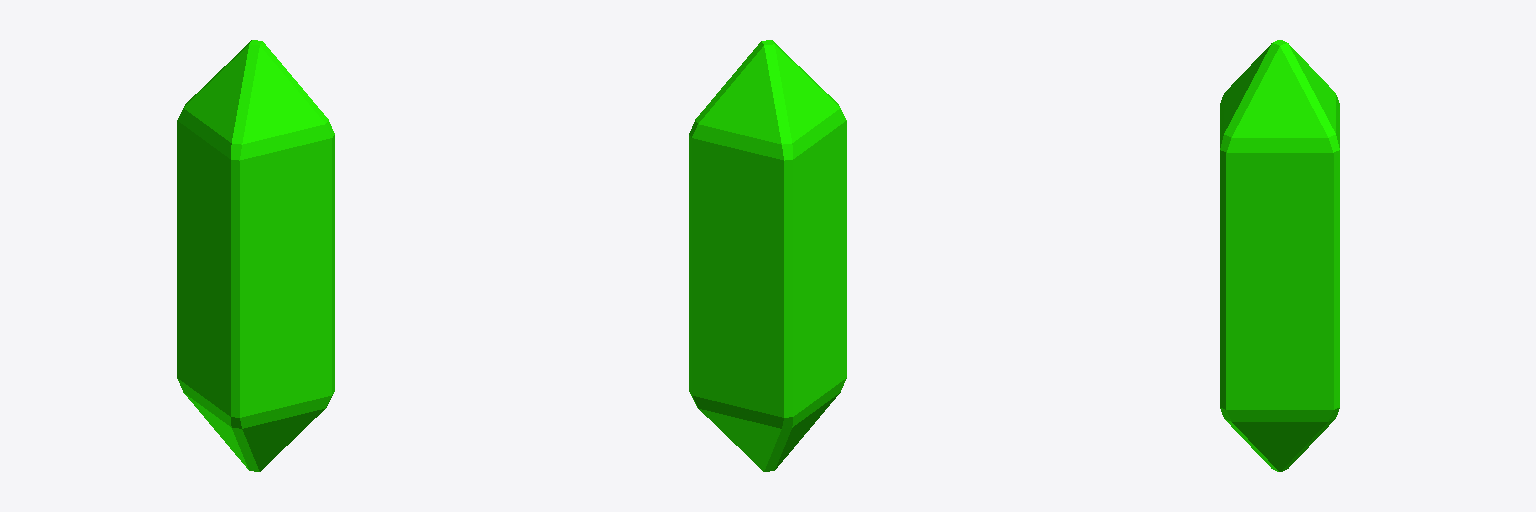
Rendered from pickle_inverted.obj.
3 renders of one model, left to right at view 1: azimuth 30°, elevation 25°; view 2: azimuth 150°, elevation 25°; view 3: azimuth 270°, elevation 25°, orthographic.
Parts seen in each view (by area): view 1: Cube_Cube.001; view 2: Cube_Cube.001; view 3: Cube_Cube.001.
Boxes of the visible parts, x1,y1,x2,y2 form: Cube_Cube.001: [177, 40, 334, 471]; Cube_Cube.001: [689, 40, 846, 471]; Cube_Cube.001: [1220, 40, 1339, 471].
Bounding box in the file's own units: 0.8 × 3.13 × 0.8.